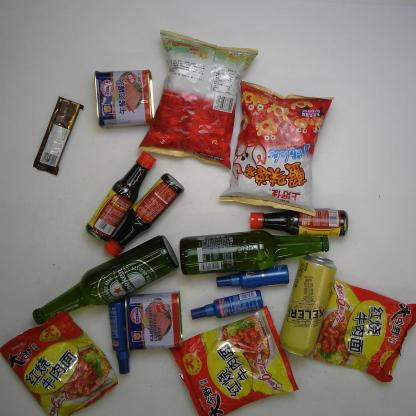Alcohol: (25, 232, 178, 330), (172, 225, 334, 275), (272, 251, 342, 361)
Canned Food: (122, 287, 188, 355), (89, 65, 158, 129)
Chocolate: (31, 96, 85, 178)
Instant Noodles: (164, 306, 301, 416), (0, 308, 121, 414), (305, 276, 416, 384)
Personal Hygiene: (103, 296, 137, 376), (211, 260, 294, 292), (189, 290, 264, 325)
Puffed Food: (135, 29, 261, 168), (214, 78, 335, 218)
Seasoner: (101, 170, 186, 264), (86, 146, 157, 244), (243, 204, 354, 244)
